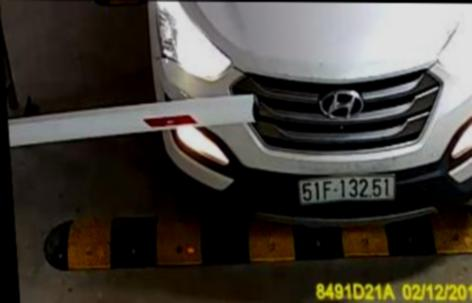License_Plate: (297, 169, 400, 209)
